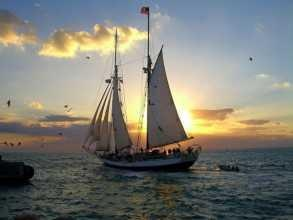fanchuan: (84, 7, 198, 168)
